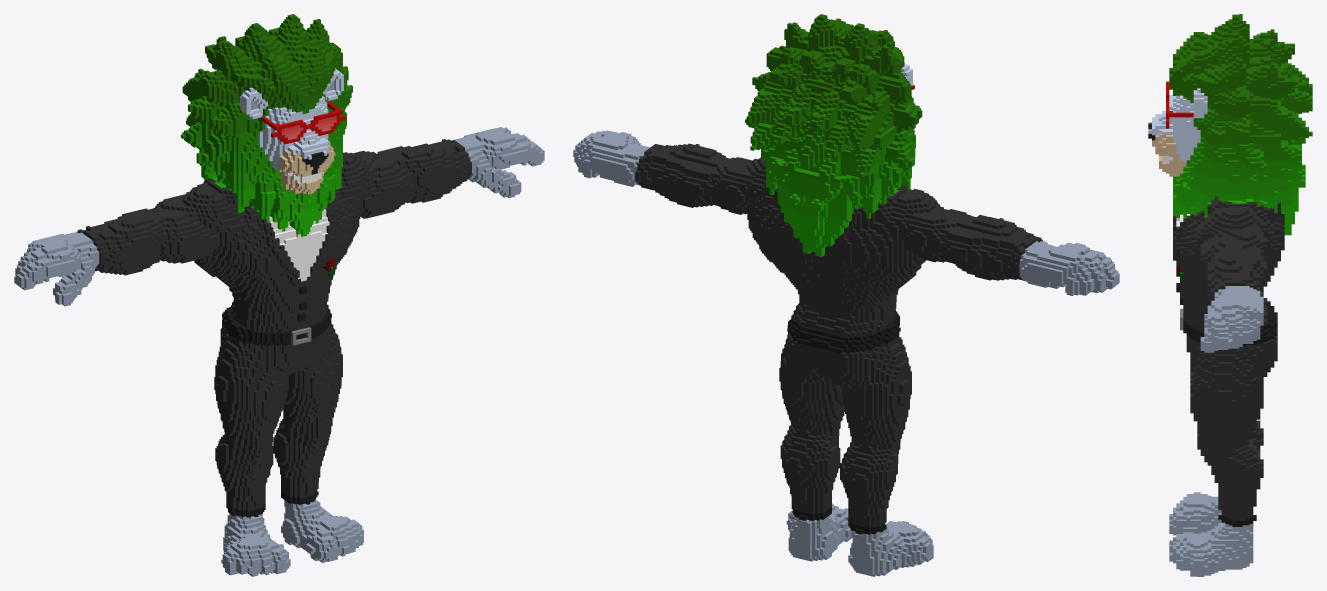
The model's file is 876-DrySDqQk.fbx.
3 views of the same model, side by side, from view 1: azimuth 30°, elevation 25°; view 2: azimuth 150°, elevation 25°; view 3: azimuth 270°, elevation 25° (orthographic). The views are drawn at different scales.
Parts seen in each view (by area): view 1: big_smile; view 2: big_smile; view 3: big_smile.
Boxes of the visible parts, x1,y1,x2,y2 form: big_smile: (14, 14, 544, 576); big_smile: (573, 14, 1119, 576); big_smile: (1148, 14, 1312, 576).
Size of the model in its own units: 17.2 by 16.5 by 4.7.
Materials: 5 (5 with a texture image).
